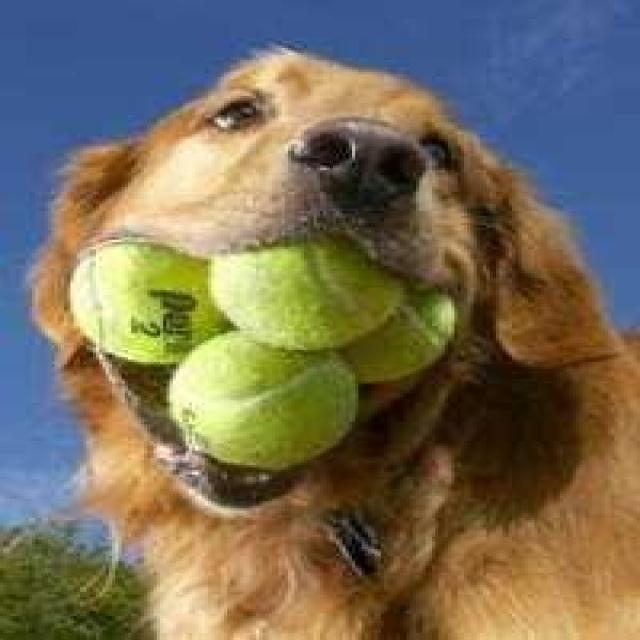Tennis_Ball: (160, 328, 366, 472), (210, 246, 408, 349), (72, 240, 212, 352), (350, 290, 456, 386)
